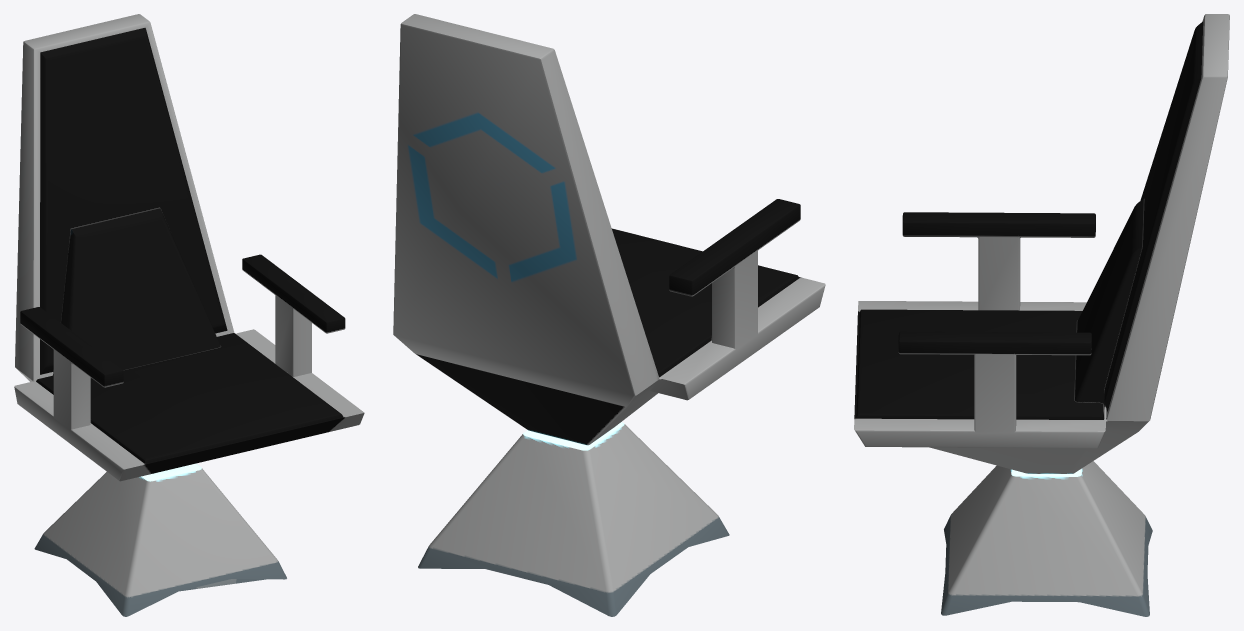
The model's file is Computer_Chair1.fbx.
The picture shows the model from 3 angles, left to right: view 1: azimuth 30°, elevation 25°; view 2: azimuth 150°, elevation 25°; view 3: azimuth 270°, elevation 25°; orthographic projection. The views are drawn at different scales.
Visible parts, largest first — view 1: Computer_Chair1; view 2: Computer_Chair1; view 3: Computer_Chair1.
Part boxes in pixels (<box>): Computer_Chair1: <box>14,14,364,616</box>; Computer_Chair1: <box>393,14,825,616</box>; Computer_Chair1: <box>854,14,1229,616</box>.
Bounding box in the file's own units: 297 × 557 × 359.
